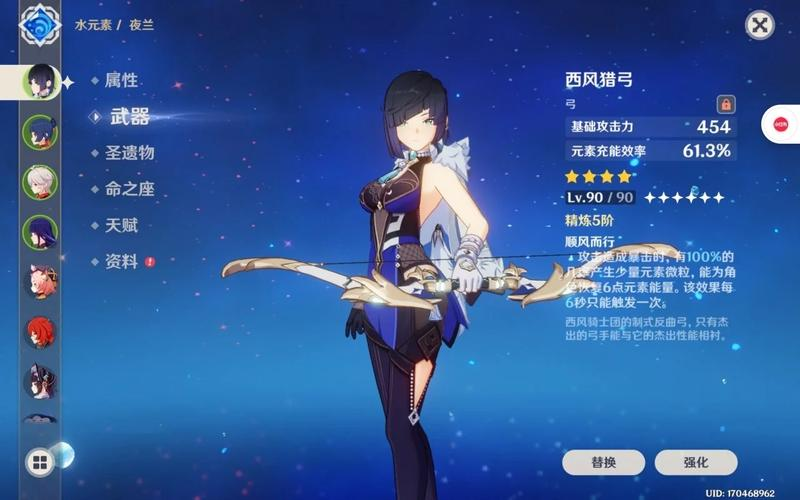夜兰: (341, 70, 492, 500)
